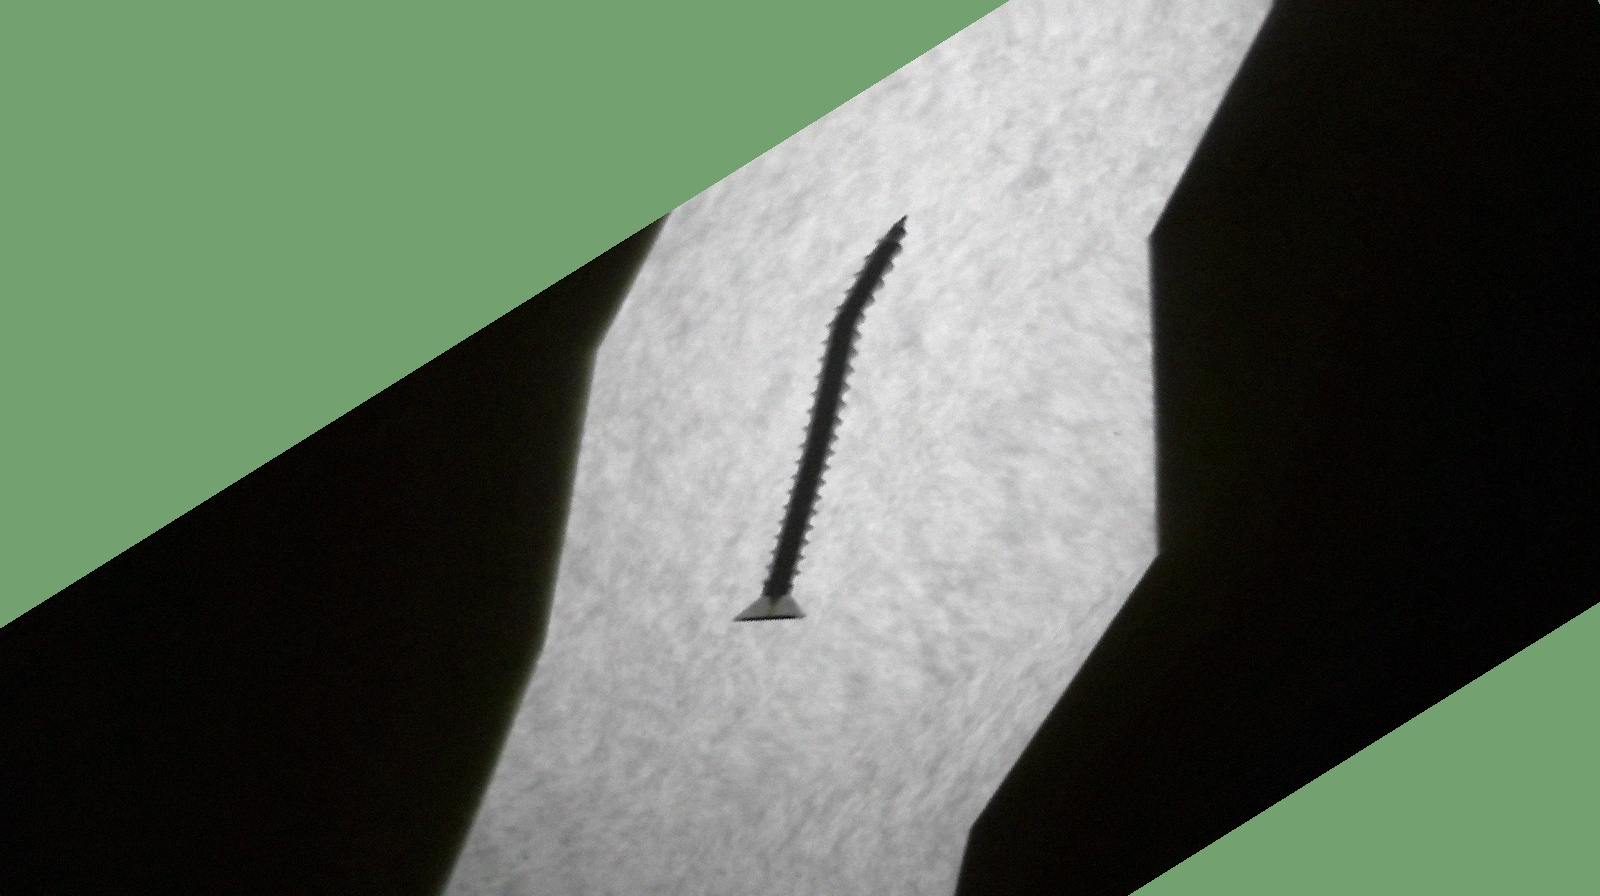S002: (587, 185, 1085, 675)
